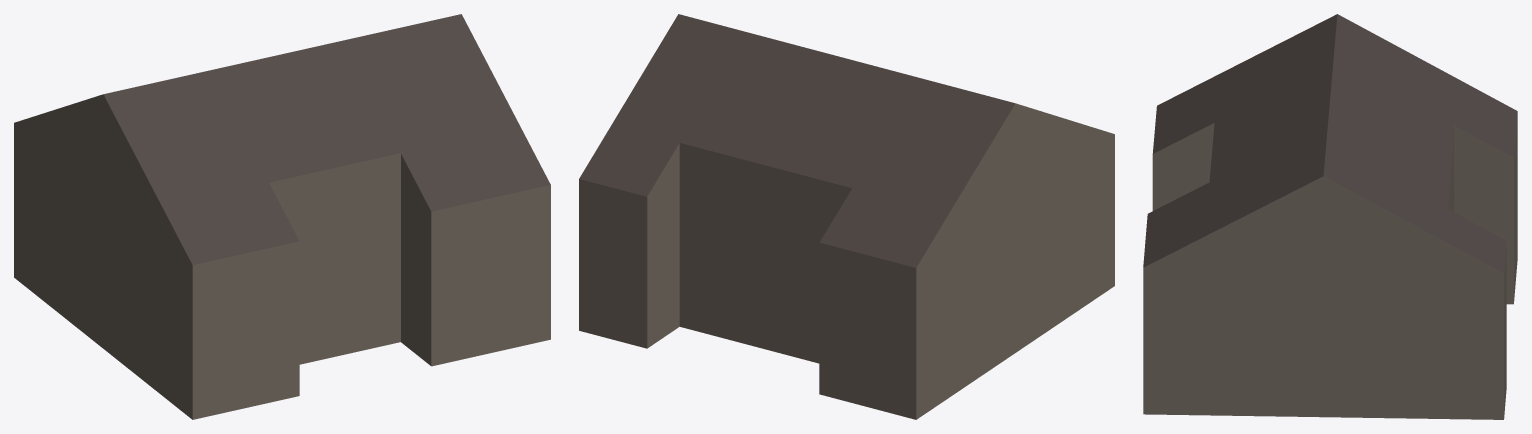
3 views of the same model, side by side, from view 1: azimuth 30°, elevation 25°; view 2: azimuth 150°, elevation 25°; view 3: azimuth 270°, elevation 25° (orthographic). The views are drawn at different scales.
Visible parts, largest first — view 1: HP-w858807425; view 2: HP-w858807425; view 3: HP-w858807425.
Boxes of the visible parts, x1,y1,x2,y2 form: HP-w858807425: (14, 14, 550, 419); HP-w858807425: (579, 14, 1114, 419); HP-w858807425: (1143, 14, 1517, 419).
Size of the model in its own units: 14.73 by 9.87 by 13.9.
